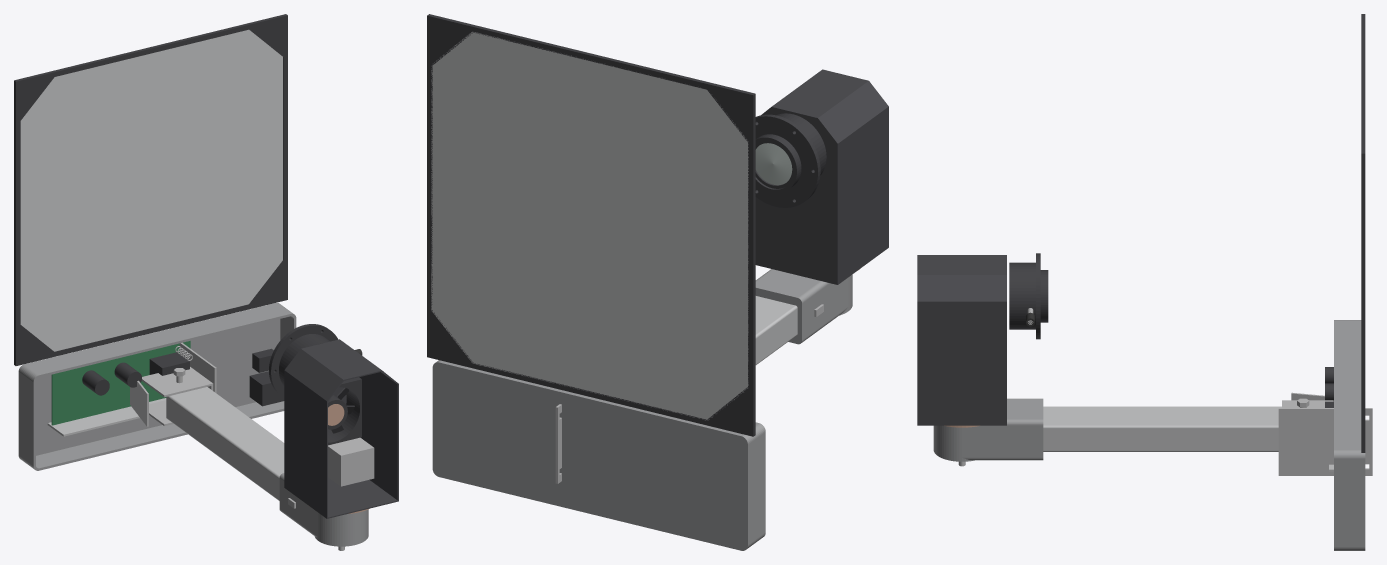
Rendered from projektoren.glb.
3 views of the same model, side by side, from view 1: azimuth 30°, elevation 25°; view 2: azimuth 150°, elevation 25°; view 3: azimuth 270°, elevation 25° (orthographic). The views are drawn at different scales.
Parts seen in each view (by area): view 1: P05_fresnelspegel_plate, P04_base_brett, P03_hovud_hus, P05_fresnelspegel_ramme, P01_arm_profil, P04_base_kort, P01_arm_kappe, P03_hovud_sokkel, P07_projeksjonslinse_fatning, P03_hovud_vifte, P02_hengsel_kanal, P04_base_kjoleplate (+5 smaller); view 2: P05_fresnelspegel_plate, P04_base_brett, P03_hovud_hus, P05_fresnelspegel_ramme, P07_projeksjonslinse_fatning, P01_arm_kappe, P01_arm_profil, P07_projeksjonslinse_glas; view 3: P03_hovud_hus, P01_arm_profil, P04_base_brett, P01_arm_kappe, P02_hengsel_plate, P07_projeksjonslinse_fatning, P05_fresnelspegel_ramme.
Boxes of the visible parts, x1,y1,x2,y2 form: P05_fresnelspegel_plate: (20, 29, 282, 351); P04_base_brett: (18, 303, 296, 470); P03_hovud_hus: (284, 339, 398, 518); P05_fresnelspegel_ramme: (14, 14, 287, 365); P01_arm_profil: (166, 387, 284, 500); P04_base_kort: (51, 341, 190, 425); P01_arm_kappe: (279, 473, 368, 546); P03_hovud_sokkel: (328, 437, 374, 486); P07_projeksjonslinse_fatning: (269, 324, 338, 397); P03_hovud_vifte: (328, 377, 361, 445); P02_hengsel_kanal: (141, 367, 213, 426); P04_base_kjoleplate: (47, 398, 166, 436); P05_fresnelspegel_plate: (431, 31, 748, 420); P04_base_brett: (432, 360, 765, 550); P03_hovud_hus: (755, 69, 888, 284); P05_fresnelspegel_ramme: (427, 14, 755, 436); P07_projeksjonslinse_fatning: (755, 113, 826, 207); P01_arm_kappe: (755, 269, 852, 344); P01_arm_profil: (755, 296, 797, 364); P07_projeksjonslinse_glas: (755, 143, 792, 185); P03_hovud_hus: (917, 255, 1006, 425); P01_arm_profil: (1043, 406, 1281, 451); P04_base_brett: (1334, 320, 1365, 550); P01_arm_kappe: (933, 398, 1043, 461); P02_hengsel_plate: (1278, 408, 1372, 475); P07_projeksjonslinse_fatning: (1009, 253, 1048, 339); P05_fresnelspegel_ramme: (1361, 14, 1365, 452).
Bounding box in the file's own units: 295 × 396 × 406.
